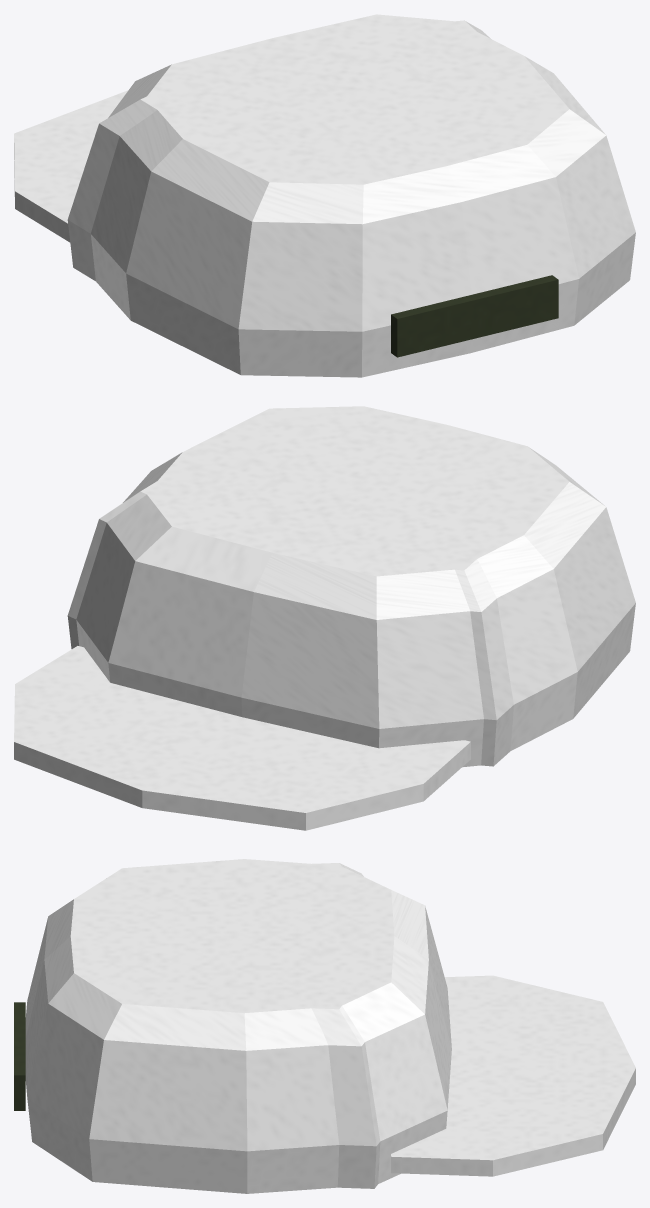
File: head_patrol.glb
3 views of the same model, one above another, from view 1: azimuth 30°, elevation 25°; view 2: azimuth 150°, elevation 25°; view 3: azimuth 270°, elevation 25° (orthographic). The views are drawn at different scales.
Parts seen in each view (by area): view 1: head_patrol_head_LOD0_RAID_cloth, head_patrol_head_LOD1_RAID_cloth, head_patrol_head_LOD0_RAID_reinforce, head_patrol_head_LOD1_RAID_reinforce; view 2: head_patrol_head_LOD0_RAID_cloth, head_patrol_head_LOD1_RAID_cloth; view 3: head_patrol_head_LOD0_RAID_cloth, head_patrol_head_LOD1_RAID_cloth, head_patrol_head_LOD1_RAID_reinforce.
Part boxes in pixels (x1,y1,x2,y2): head_patrol_head_LOD0_RAID_cloth: (14,14,635,377); head_patrol_head_LOD1_RAID_cloth: (67,20,564,281); head_patrol_head_LOD0_RAID_reinforce: (391,279,558,354); head_patrol_head_LOD1_RAID_reinforce: (391,275,558,357); head_patrol_head_LOD0_RAID_cloth: (14,406,635,830); head_patrol_head_LOD1_RAID_cloth: (67,409,547,766); head_patrol_head_LOD0_RAID_cloth: (25,859,635,1193); head_patrol_head_LOD1_RAID_cloth: (71,863,393,1188); head_patrol_head_LOD1_RAID_reinforce: (14,1002,25,1110).
Size of the model in its own units: 0.294 by 0.106 by 0.3785.
Materials: 3 (3 with a texture image).
